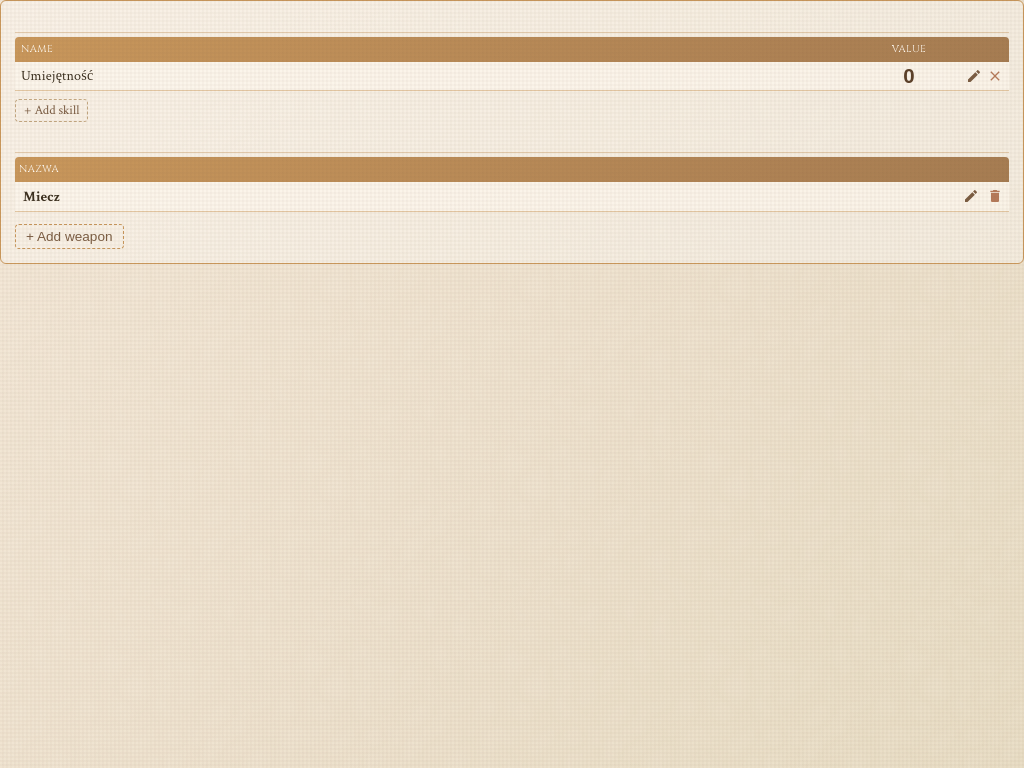
Scenario: CustomSheetBody — one edit at a time across skill_table and weapons_table (FEATURE-224 GAP 2) › closes a skill rename when clicking a weapon edit pencil
The image size is (1024, 768).
Enter rename mode on the skill
Click the button with class "custom-sheet__skill-edit". click: [974, 76]
box: x1=965 y1=67 x2=983 y2=85
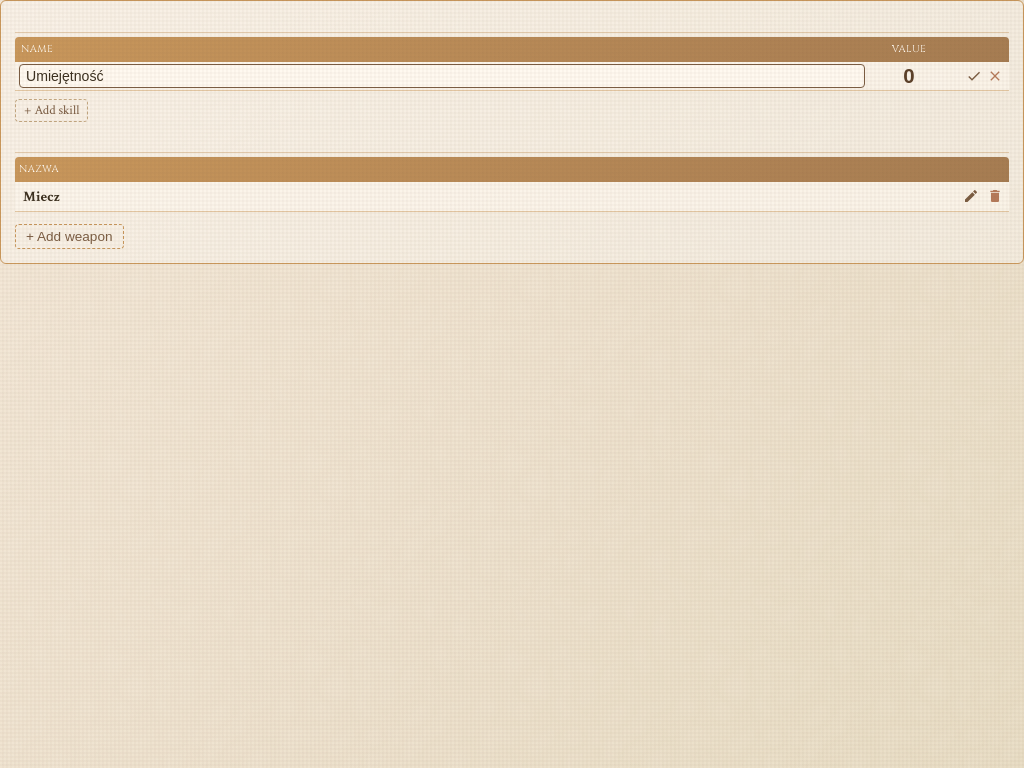
Now the field with class "custom-sheet__skill-name-input" is shown, box x1=19 y1=64 x2=865 y2=88
Click the weapon's pencil
Click the button with class "custom-sheet__row-table-edit". click: [971, 196]
box: x1=961 y1=186 x2=981 y2=206
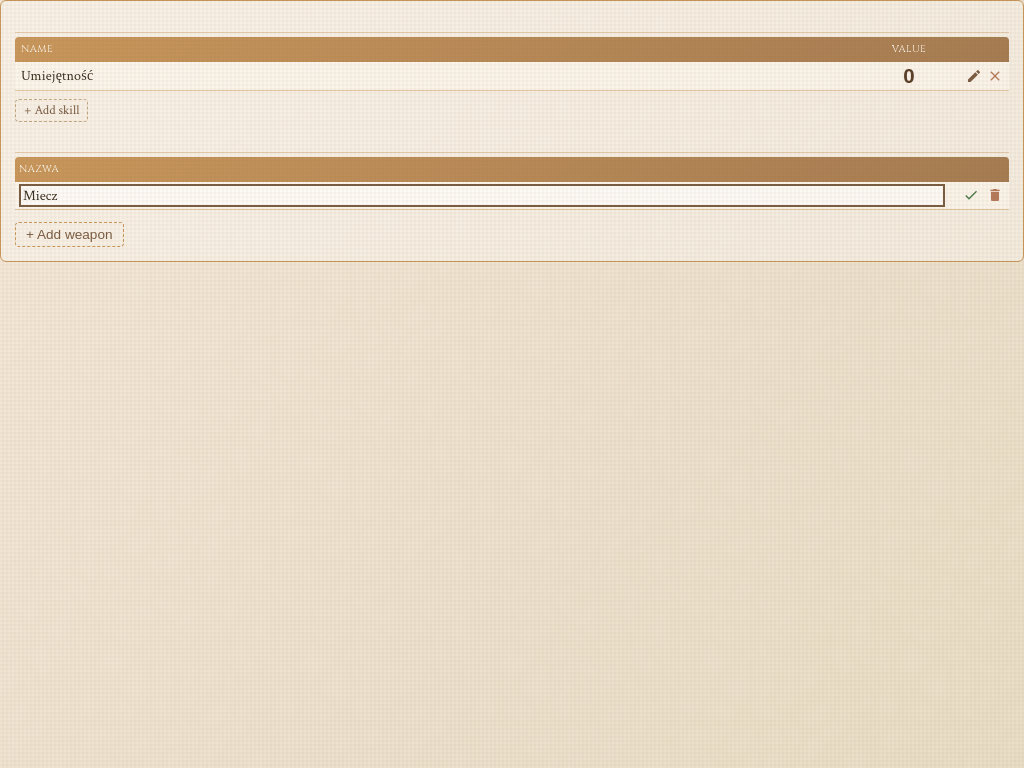
Now the field with class "custom-sheet__skill-name-input" is gone
Now the field with class "custom-sheet__row-table-cell-input" is shown, box x1=19 y1=184 x2=945 y2=206
